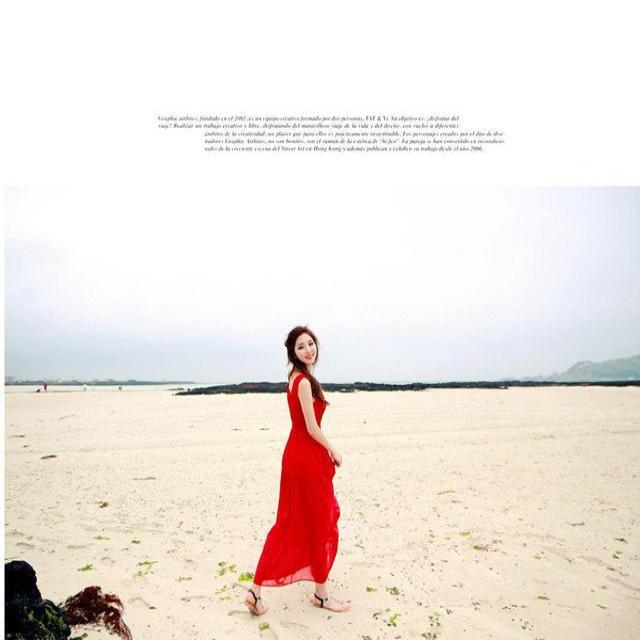vest dress: (254, 372, 341, 588)
